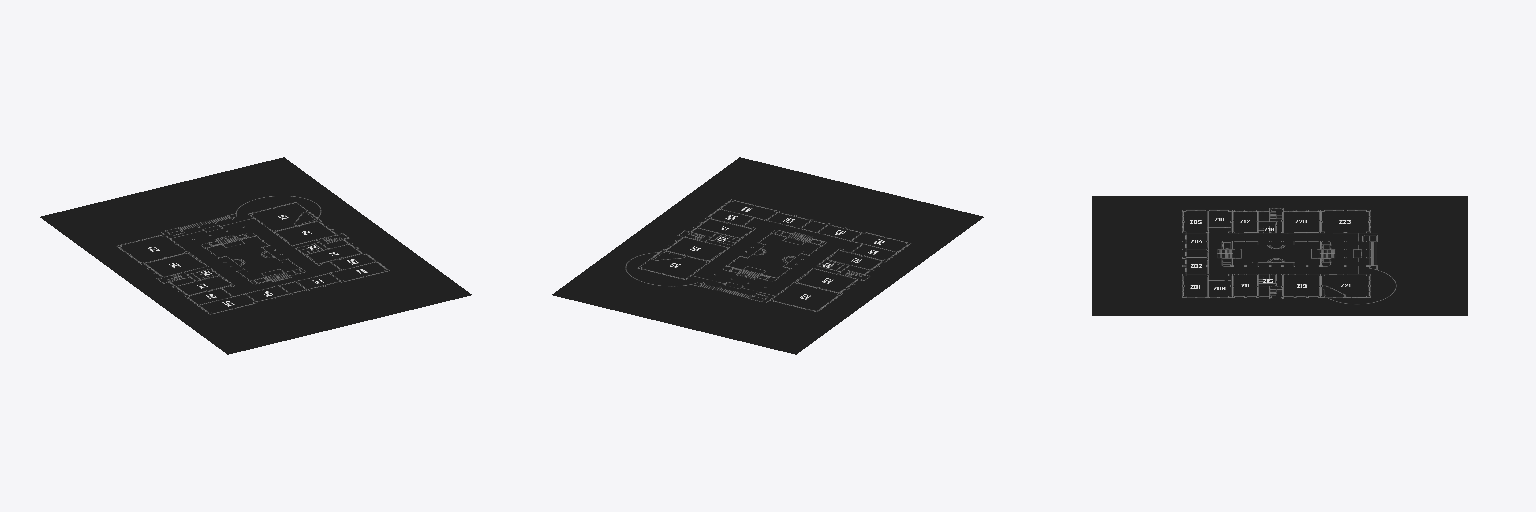
3 renders of one model, left to right at view 1: azimuth 30°, elevation 25°; view 2: azimuth 150°, elevation 25°; view 3: azimuth 270°, elevation 25°, orthographic.
Visible parts, largest first — view 1: Plane; view 2: Plane; view 3: Plane.
Boxes of the visible parts, x1=… form: Plane: x1=40, y1=157, x2=471, y2=354; Plane: x1=552, y1=157, x2=983, y2=354; Plane: x1=1092, y1=196, x2=1467, y2=315.
Bounding box in the file's own units: 12 × 0 × 16.
1 materials, 1 textured.